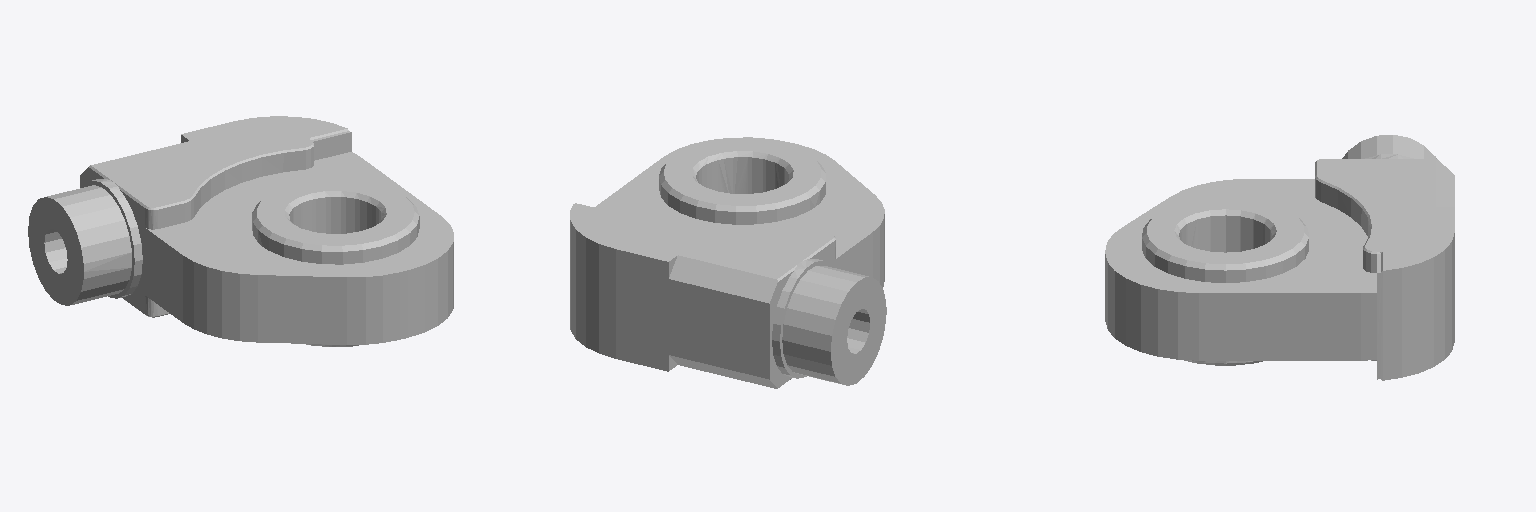
The model's file is right_ankle_pitch_link_visuals.obj.
3 views of the same model, side by side, from view 1: azimuth 30°, elevation 25°; view 2: azimuth 150°, elevation 25°; view 3: azimuth 270°, elevation 25° (orthographic).
Size of the model in its own units: 0.036 by 0.013 by 0.0374.